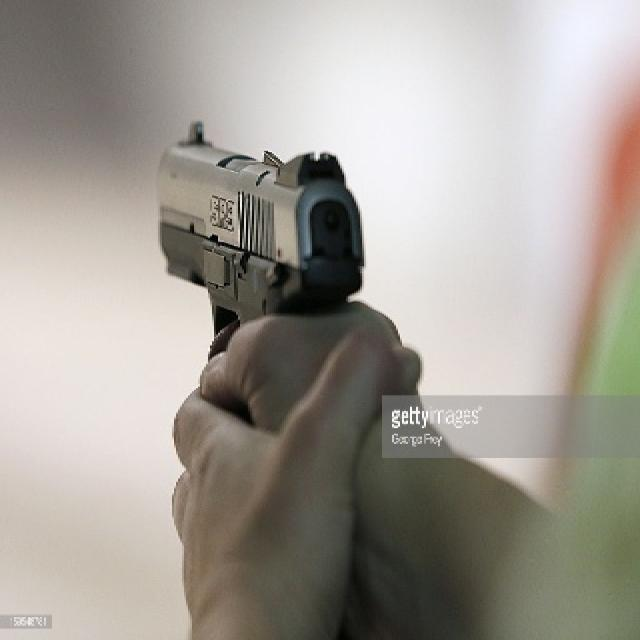handgun: (145, 112, 367, 334)
